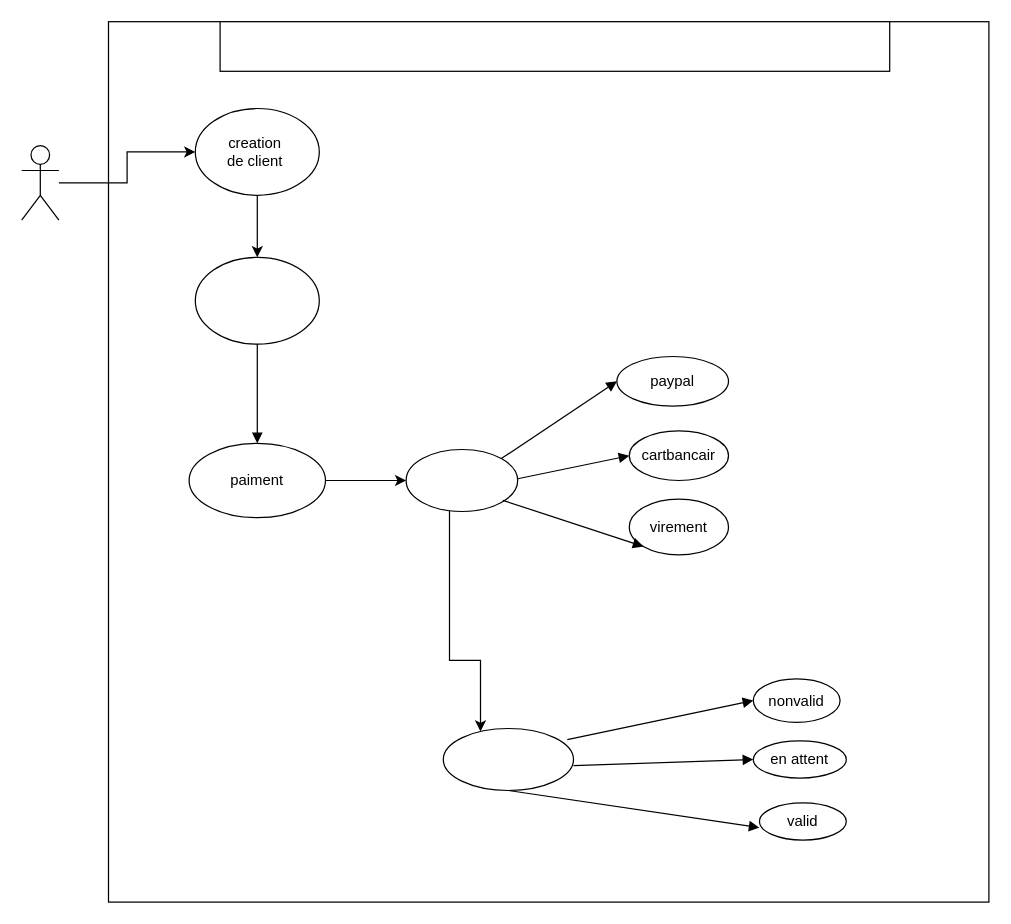
Image size: 1011x924. Some labels were removed from this diagram. The centre of each missing label's shape, as x and y in pixels:
Actor: point 39,182
creaion commande: point 256,300
moyene: point 461,480
status: point 508,758
